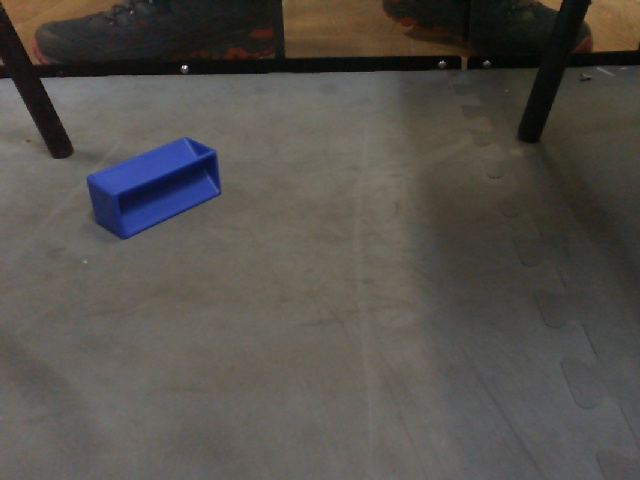BlueSample: (88, 136, 221, 243)
